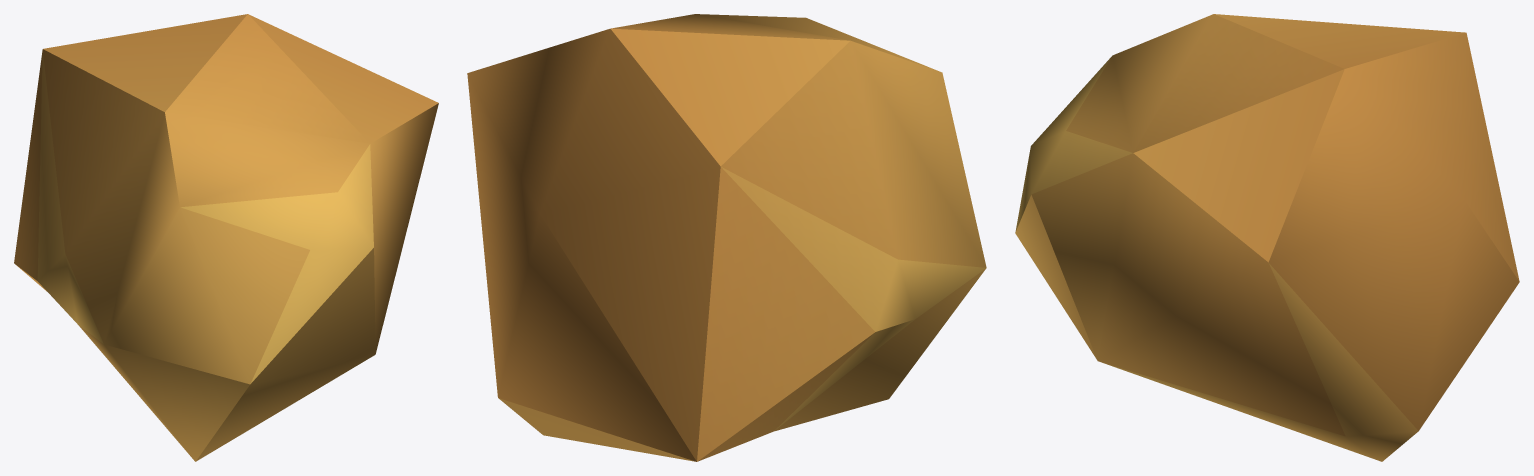
File: gold-nugget-small.glb
3 renders of one model, left to right at view 1: azimuth 30°, elevation 25°; view 2: azimuth 150°, elevation 25°; view 3: azimuth 270°, elevation 25°, orthographic. The views are drawn at different scales.
Visible parts, largest first — view 1: Gold_Nugget_Small; view 2: Gold_Nugget_Small; view 3: Gold_Nugget_Small.
Part boxes in pixels (<box>): Gold_Nugget_Small: <box>14,14,438,461</box>; Gold_Nugget_Small: <box>467,14,986,461</box>; Gold_Nugget_Small: <box>1015,14,1519,461</box>.
Bounding box in the file's own units: 0.1411 × 0.1204 × 0.1461.
Materials: 1 (1 with a texture image).
